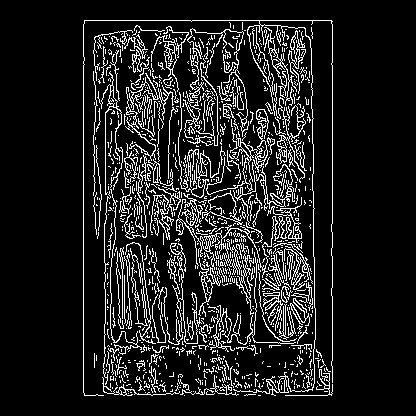buddha-sitting: (24, 73, 280, 171)
